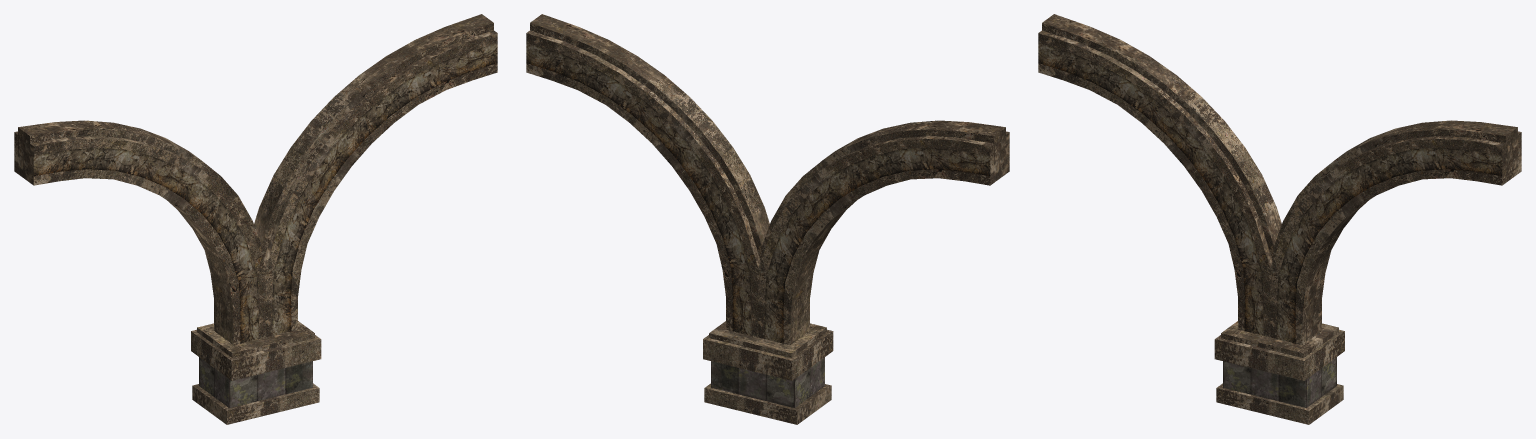
The model's file is materials_5_arch_21.fbx.
3 renders of one model, left to right at view 1: azimuth 30°, elevation 25°; view 2: azimuth 150°, elevation 25°; view 3: azimuth 330°, elevation 25°, orthographic.
Visible parts, largest first — view 1: materials_5_arch_21; view 2: materials_5_arch_21; view 3: materials_5_arch_21.
Boxes of the visible parts, bbox=[...] form: materials_5_arch_21: bbox=[14, 14, 497, 424]; materials_5_arch_21: bbox=[526, 14, 1009, 424]; materials_5_arch_21: bbox=[1038, 14, 1521, 424].
Size of the model in its own units: 168 by 113 by 25.7.
